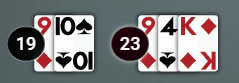10: (53, 14, 78, 38)
4: (157, 14, 179, 38)
9: (32, 14, 54, 38), (137, 14, 158, 37)
k: (178, 15, 199, 39)
